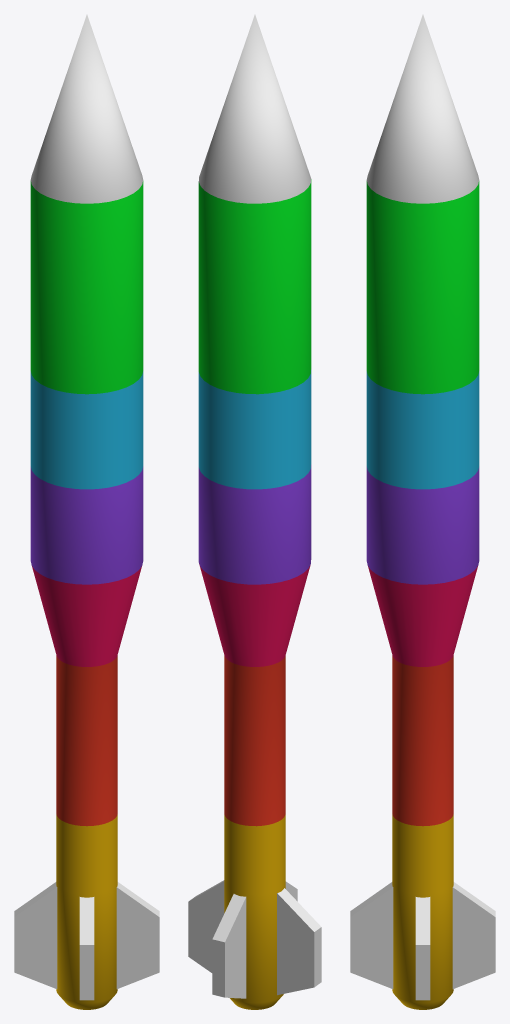
Rendered from rocketv2.fbx.
3 renders of one model, left to right at view 1: azimuth 90°, elevation 25°; view 2: azimuth 150°, elevation 25°; view 3: azimuth 270°, elevation 25°, orthographic.
Parts seen in each view (by area): view 1: Cylinder, Plane.001, Plane; view 2: Cylinder, Plane, Plane.001; view 3: Cylinder, Plane.001, Plane.
Part boxes in pixels (x1,y1,x2,y2): Cylinder: (30,14,143,1009); Plane.001: (14,882,159,988); Plane: (79,897,94,1000); Cylinder: (198,14,311,1009); Plane: (188,880,321,995); Plane.001: (212,881,297,998); Cylinder: (366,14,479,1009); Plane.001: (350,882,495,988); Plane: (415,897,430,1000).
Bounding box in the file's own units: 50 × 375 × 50.
